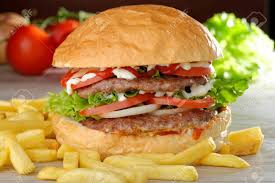hamburger: (54, 4, 226, 152)
